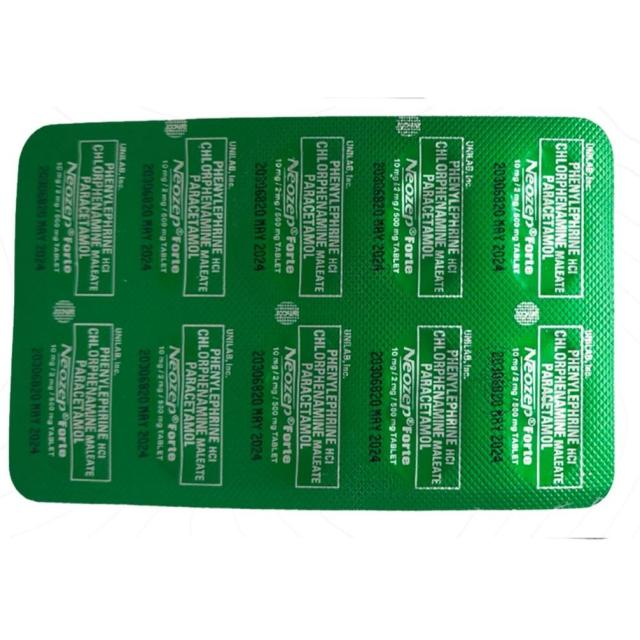blister: (1, 117, 621, 514)
